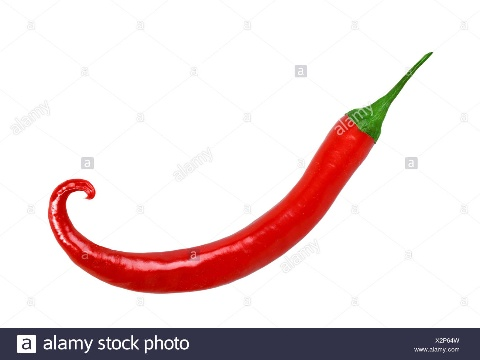Chilli: (25, 50, 446, 297)
